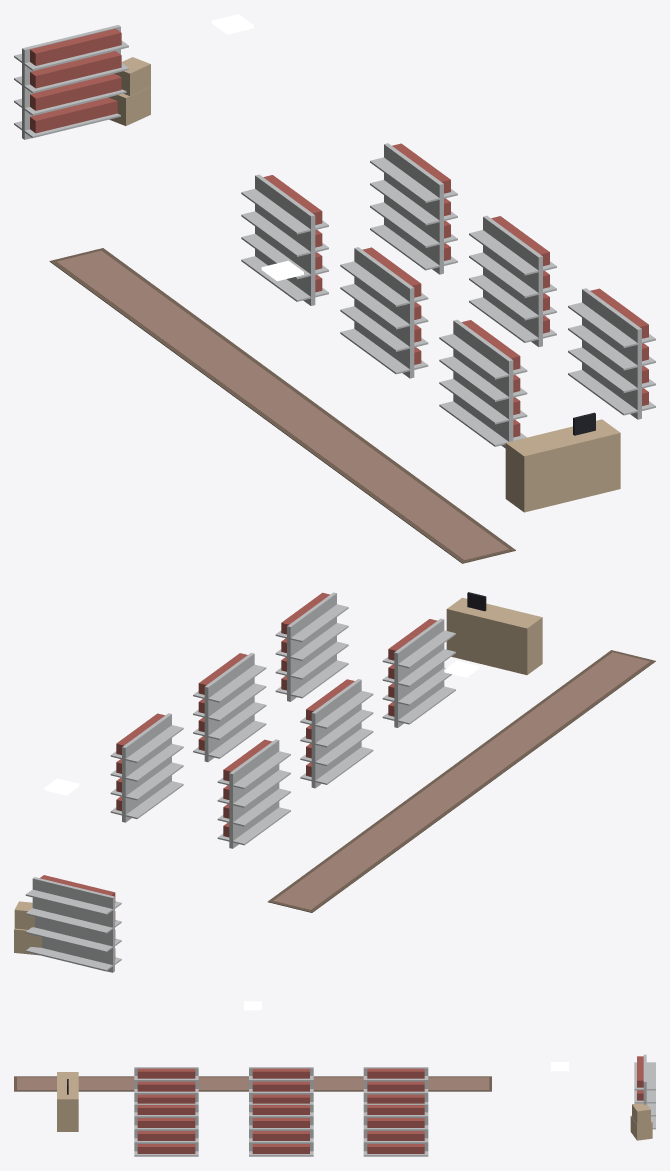
The model's file is fine-s0.glb.
The picture shows the model from 3 angles, top to bottom: view 1: azimuth 30°, elevation 25°; view 2: azimuth 150°, elevation 25°; view 3: azimuth 270°, elevation 25°; orthographic projection. The views are drawn at different scales.
Visible parts, largest first — view 1: soft-s0, shelving.000, shop-counter.000, shelf.001, shelf.003, shelf.005, shelf.004, shelf.002, shelf.000, cardboard-box.000; view 2: soft-s0, shelving.000, shop-counter.000, shelf.000, shelf.004, shelf.003, shelf.001, shelf.005, shelf.002, cardboard-box.000; view 3: soft-s0, shelf.003, shelf.004, shelf.005, shelf.000, shelf.001, shelf.002, shop-counter.000, shelving.000, cardboard-box.000.
Part boxes in pixels (x1,y1,x2,y2): soft-s0: (49, 248, 515, 563); shelving.000: (14, 25, 128, 139); shop-counter.000: (505, 412, 620, 512); shelf.001: (340, 247, 428, 378); shelf.003: (370, 143, 457, 274); shelf.005: (568, 288, 655, 419); shelf.004: (469, 215, 556, 346); shelf.002: (439, 319, 527, 448); shelf.000: (241, 174, 328, 305); cardboard-box.000: (109, 57, 150, 125); soft-s0: (267, 650, 655, 912); shelving.000: (25, 875, 121, 972); shop-counter.000: (446, 592, 542, 674); shelf.000: (217, 739, 290, 848); shelf.004: (193, 653, 266, 762); shelf.003: (110, 713, 183, 822); shelf.001: (300, 679, 373, 788); shelf.005: (275, 592, 348, 701); shelf.002: (382, 618, 455, 727); cardboard-box.000: (14, 901, 41, 955); soft-s0: (14, 1076, 491, 1091); shelf.003: (363, 1103, 428, 1156); shelf.004: (249, 1103, 313, 1156); shelf.005: (134, 1103, 198, 1156); shelf.000: (363, 1067, 428, 1103); shelf.001: (249, 1067, 313, 1103); shelf.002: (134, 1067, 198, 1103); shop-counter.000: (57, 1072, 78, 1131); shelving.000: (634, 1054, 655, 1129); cardboard-box.000: (630, 1103, 652, 1140).
Size of the model in its own units: 5.54 by 2.44 by 17.9.
